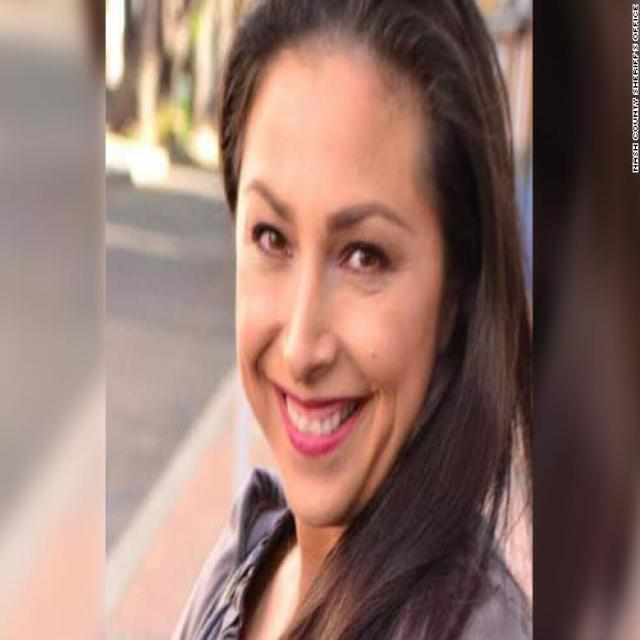human: (200, 4, 530, 640)
